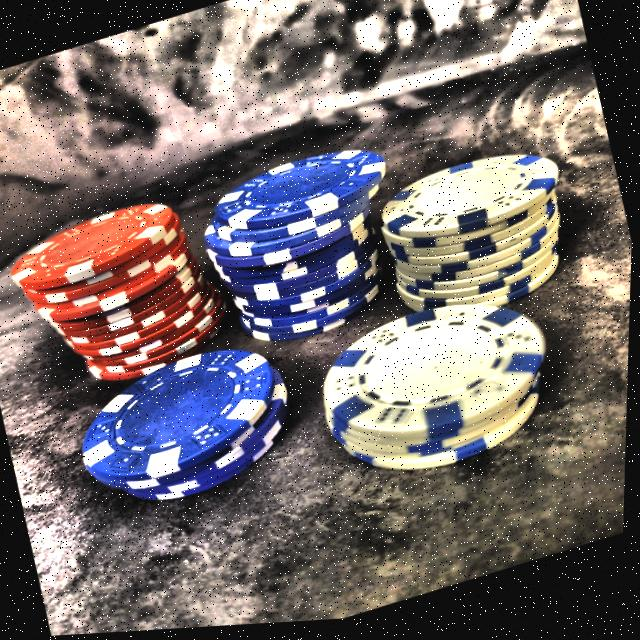Chip: (288, 275, 584, 519), (0, 153, 246, 420), (184, 113, 430, 380), (52, 314, 328, 540), (354, 118, 593, 353)
